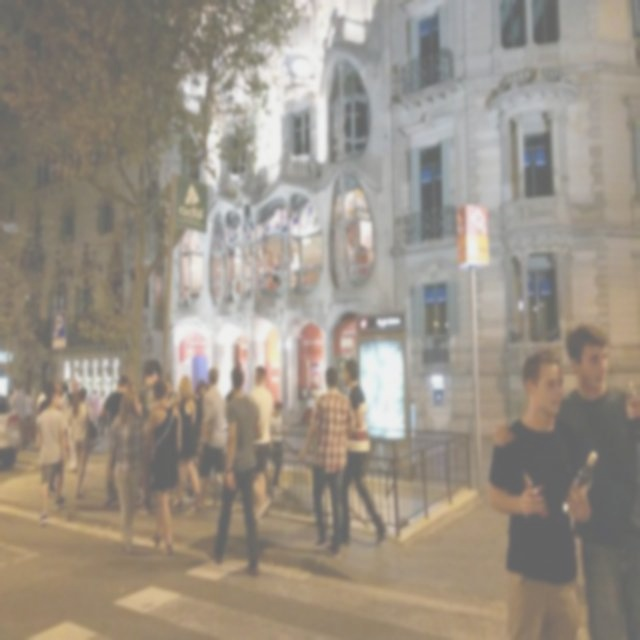pessoa: (484, 344, 601, 638), (555, 318, 639, 639), (204, 365, 264, 575), (296, 365, 358, 559), (335, 354, 390, 550), (182, 522, 350, 581), (141, 376, 185, 560), (102, 385, 144, 558), (188, 365, 230, 516), (168, 373, 204, 511), (36, 386, 69, 528), (65, 384, 101, 501), (6, 376, 74, 422), (247, 365, 274, 465), (264, 398, 289, 502), (138, 354, 174, 424), (98, 372, 132, 428), (66, 374, 82, 474), (84, 384, 108, 424), (192, 376, 211, 424), (126, 381, 138, 396)
